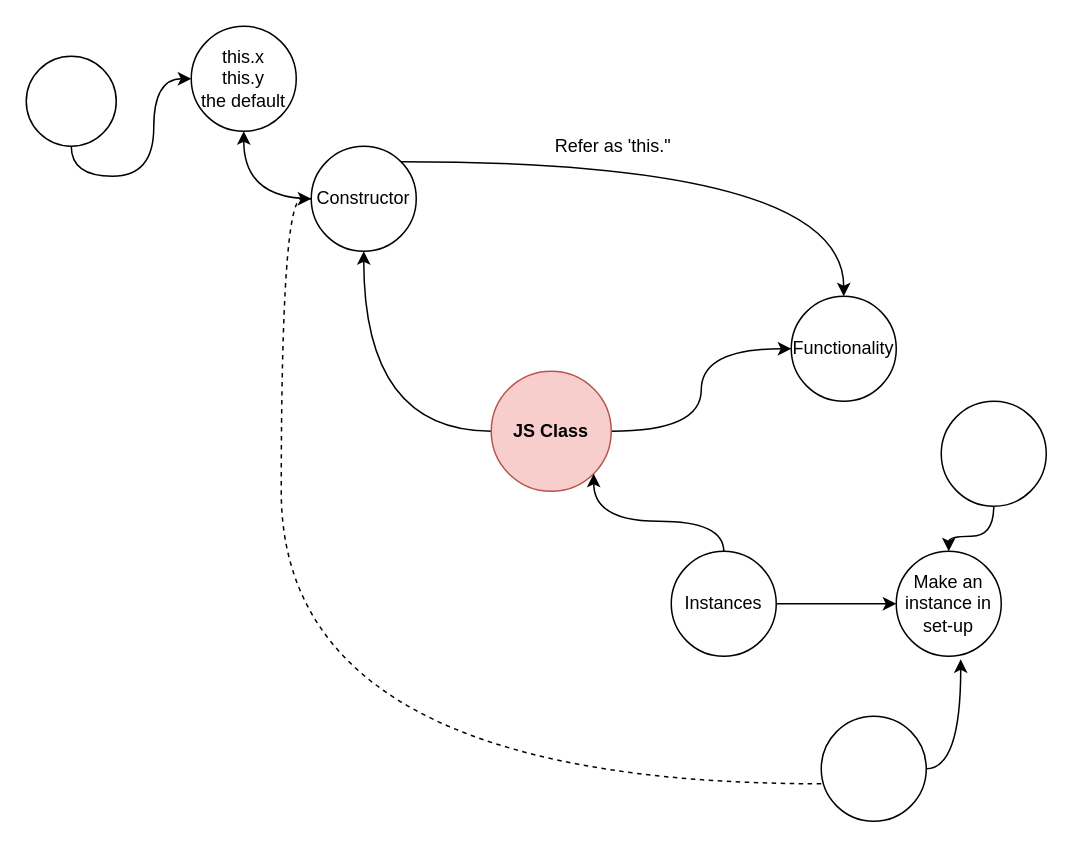
Image size: 1073x848. Some labels were removed from this diagram. Each missing label, with the centre of its shape:
arguments passed: point (873, 768)
Data: point (70, 100)
Multiple? let xx =[ ] (array): point (993, 453)
